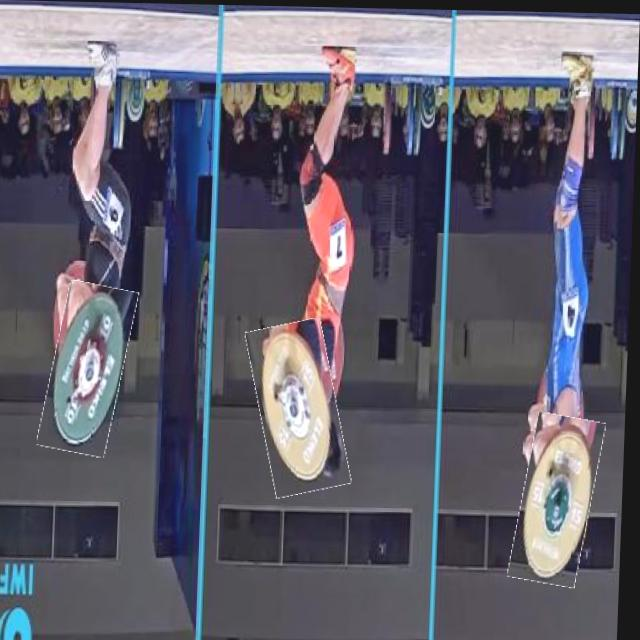barbell: (253, 320, 352, 496), (48, 282, 136, 456), (518, 412, 604, 585)
